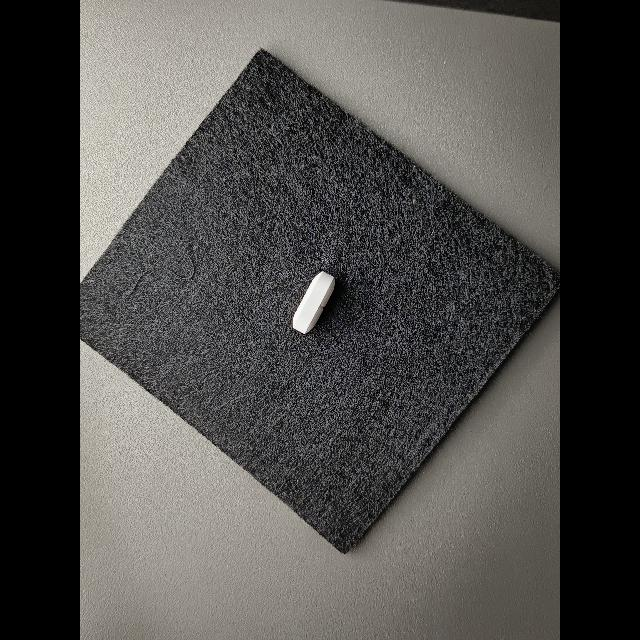Intact Pill: (292, 271, 335, 334)
